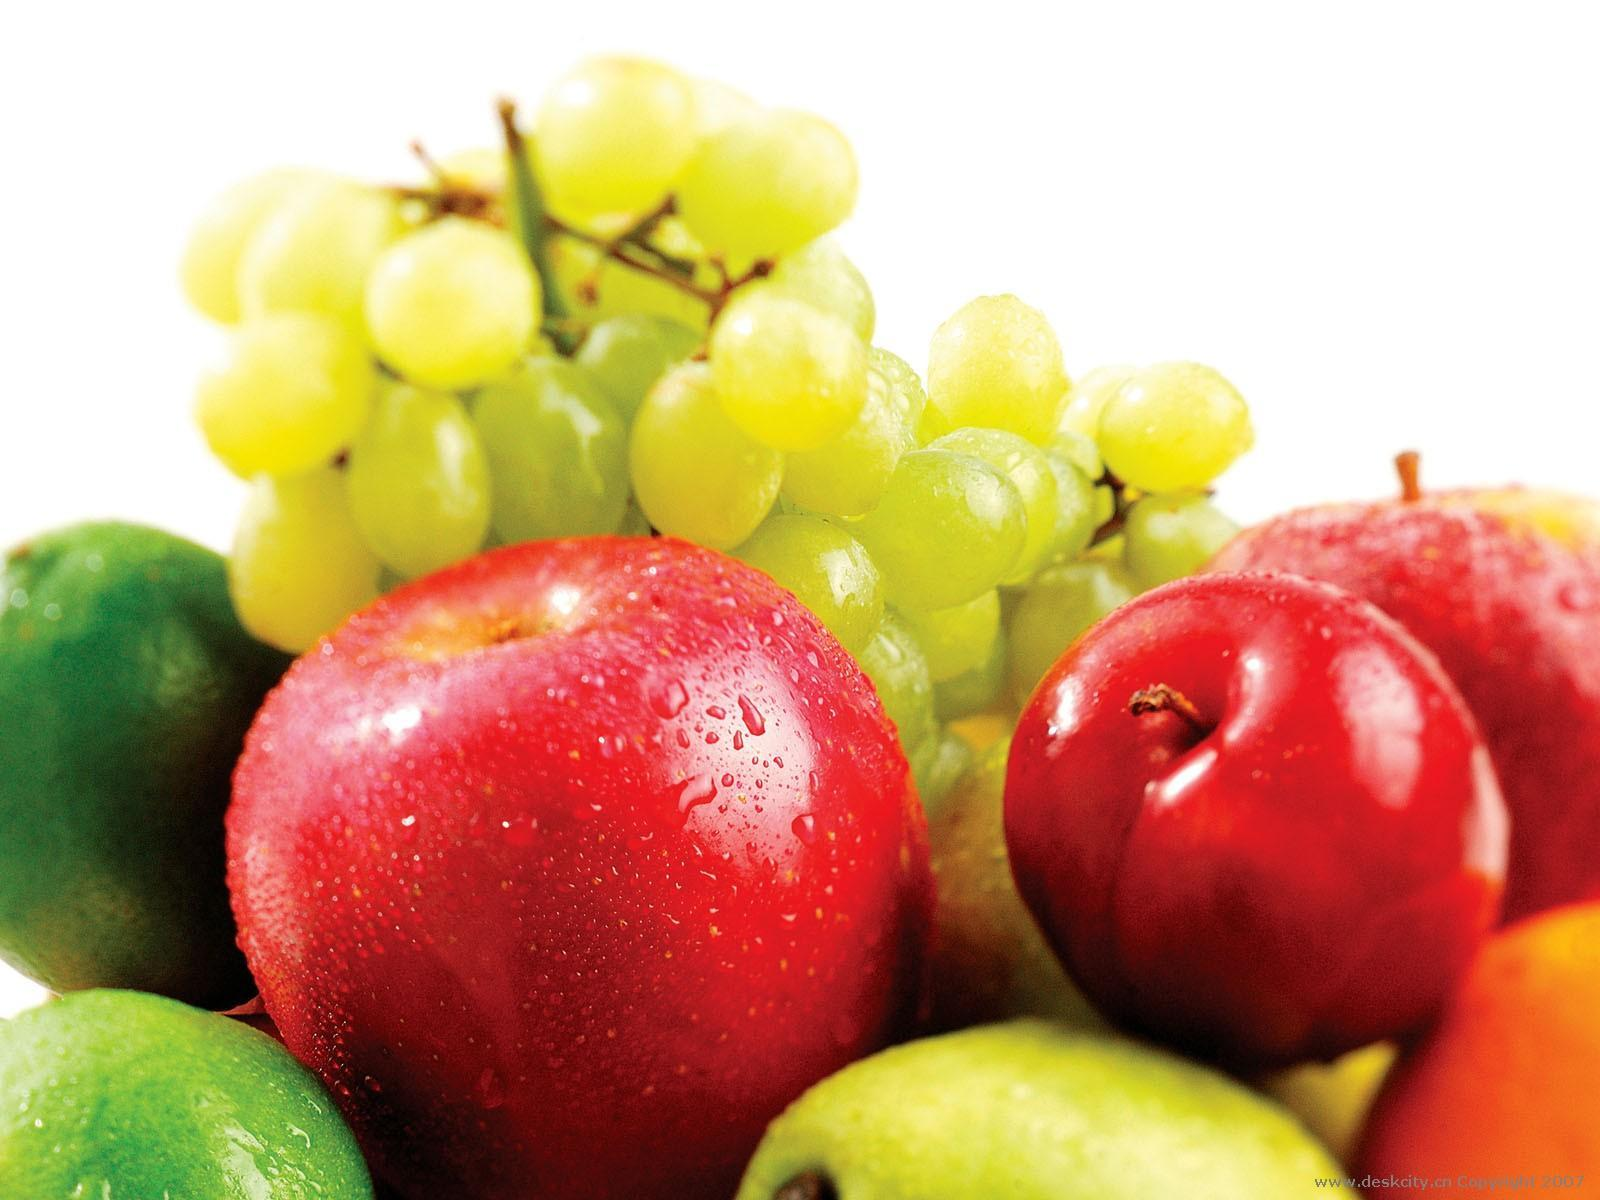apple: (222, 528, 945, 1186), (1002, 563, 1506, 1054)
